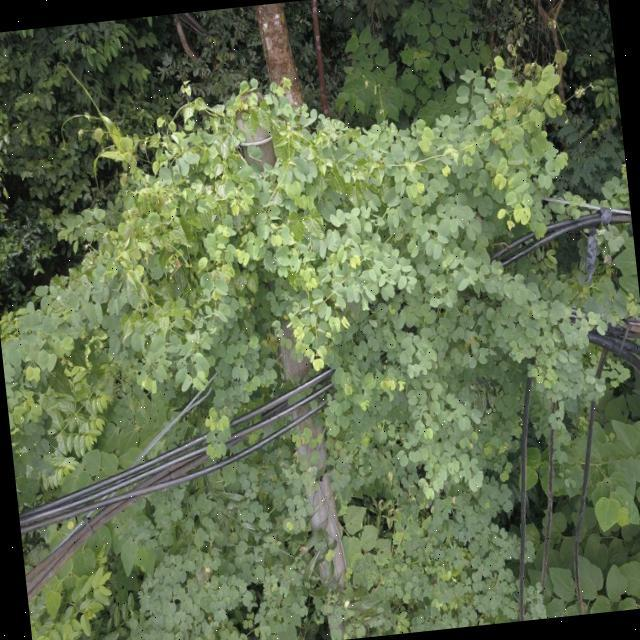critical vegetation: (28, 44, 608, 437)
